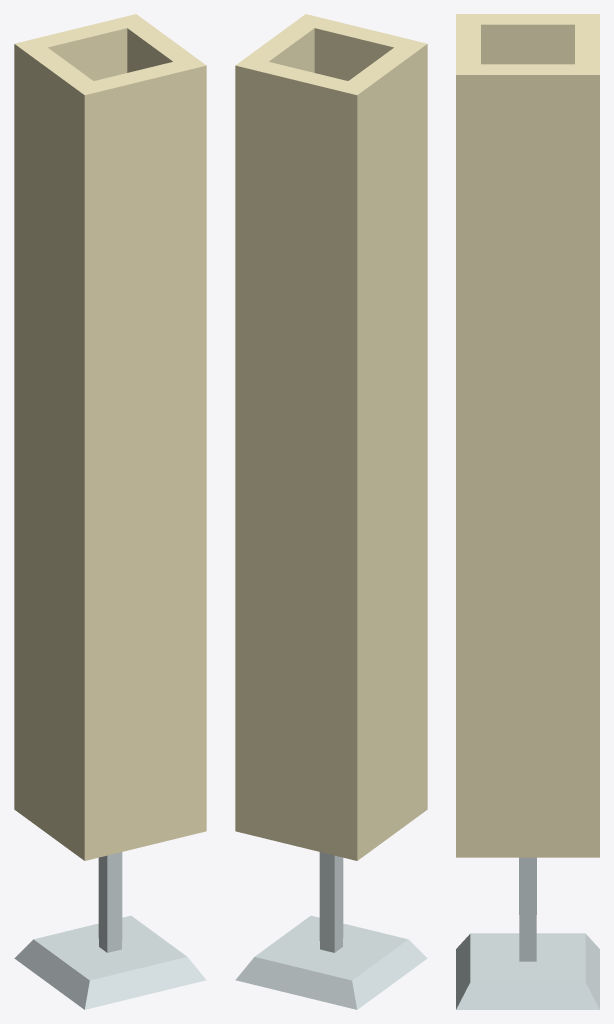
File: lampSquareFloor.glb
3 views of the same model, side by side, from view 1: azimuth 30°, elevation 25°; view 2: azimuth 150°, elevation 25°; view 3: azimuth 270°, elevation 25° (orthographic). The views are drawn at different scales.
Visible parts, largest first — view 1: lampSquareFloor(Clone); view 2: lampSquareFloor(Clone); view 3: lampSquareFloor(Clone).
Part boxes in pixels (<box>): lampSquareFloor(Clone): <box>14,14,206,1009</box>; lampSquareFloor(Clone): <box>235,14,427,1009</box>; lampSquareFloor(Clone): <box>456,14,599,1009</box>.
Size of the model in its own units: 0.2436 by 1.75 by 0.2436.
2 materials, 2 textured.
